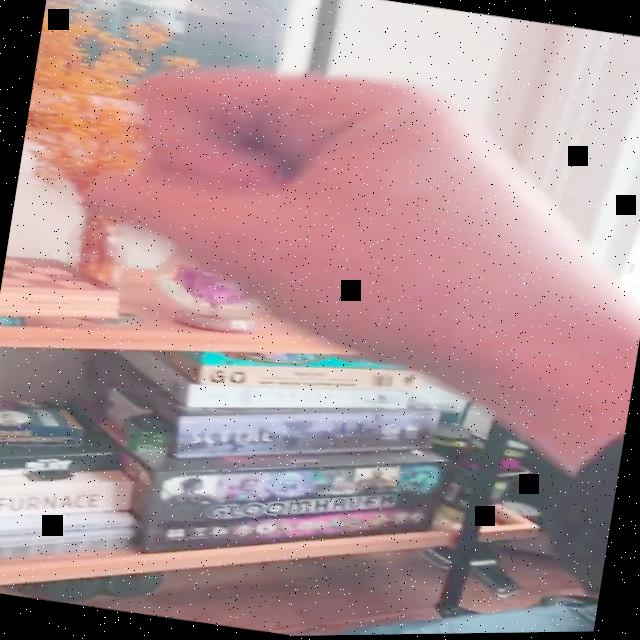Rock: (69, 31, 613, 412)
